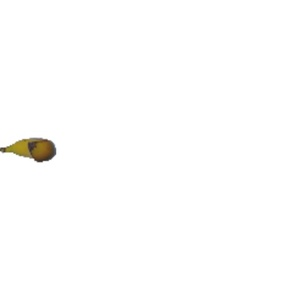banana: (2, 133, 57, 163)
